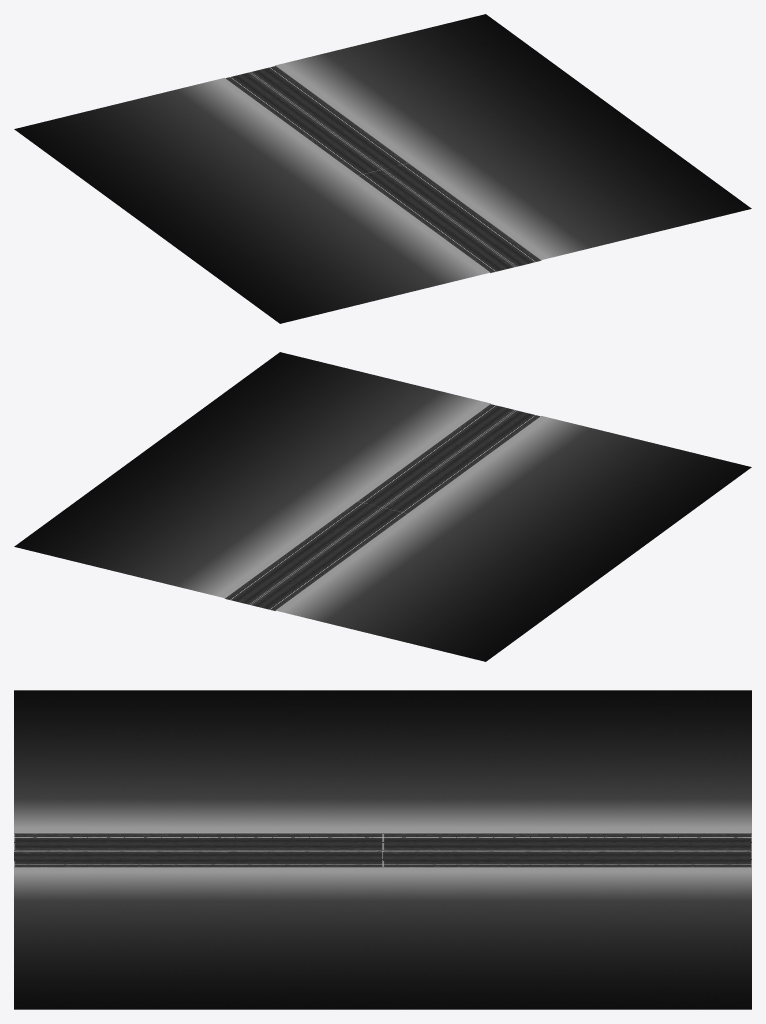
Rendered from miami_road_010.FBX.
3 renders of one model, top to bottom at view 1: azimuth 30°, elevation 25°; view 2: azimuth 150°, elevation 25°; view 3: azimuth 270°, elevation 25°, orthographic. The views are drawn at different scales.
Visible parts, largest first — view 1: Plane024; view 2: Plane024; view 3: Plane024.
Part boxes in pixels (bbox=[...]): Plane024: bbox=[14, 14, 751, 323]; Plane024: bbox=[14, 352, 751, 661]; Plane024: bbox=[14, 690, 751, 1009].
Bounding box in the file's own units: 3276 × 6 × 3200.
